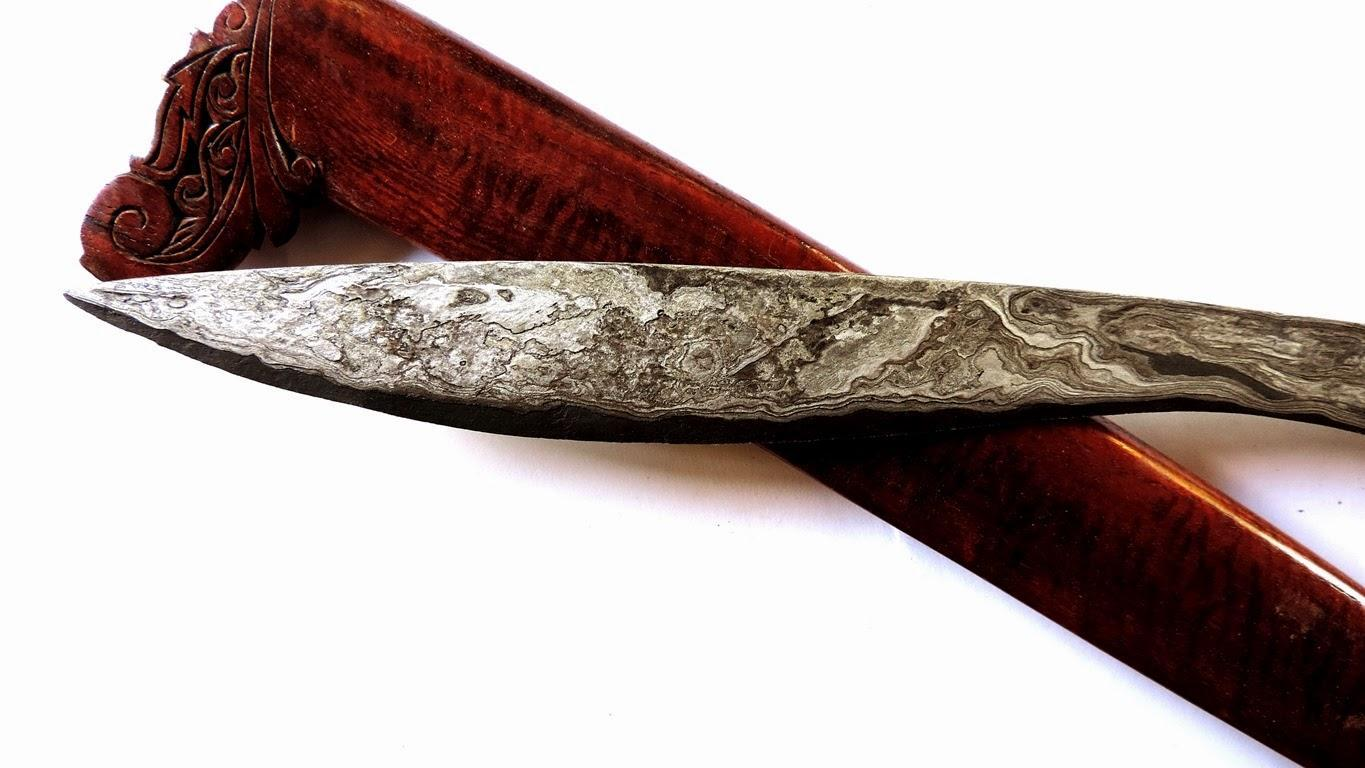faca: (66, 262, 1364, 441)
